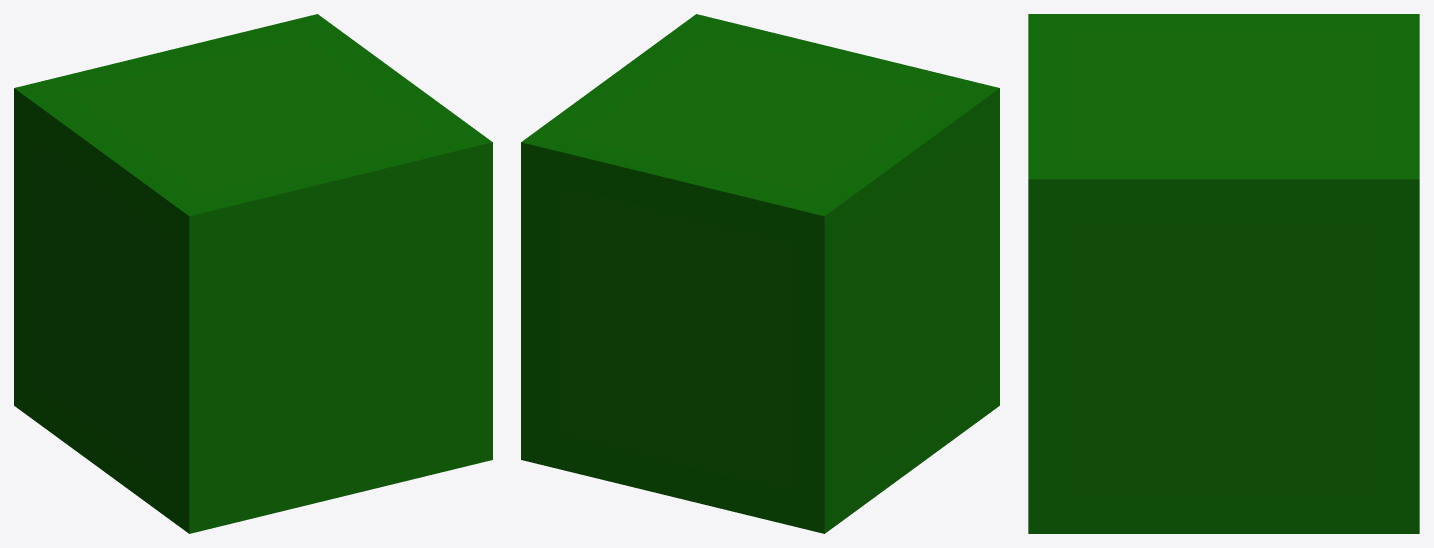
Rendered from AllGreenGrassBlockEdges.obj.
3 renders of one model, left to right at view 1: azimuth 30°, elevation 25°; view 2: azimuth 150°, elevation 25°; view 3: azimuth 270°, elevation 25°, orthographic. The views are drawn at different scales.
Bounding box in the file's own units: 0.9 × 0.9 × 0.9.
Materials: 1 (1 with a texture image).
